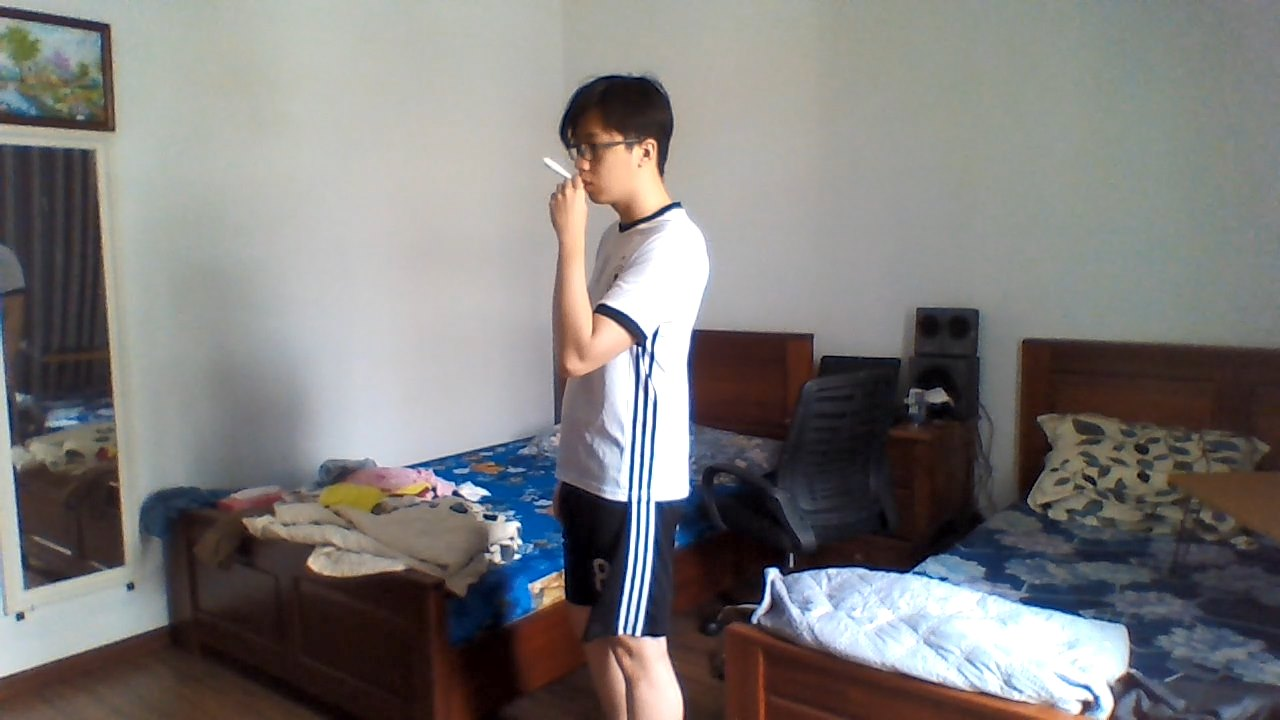cigarette: (541, 151, 576, 184)
person: (531, 61, 719, 720)
